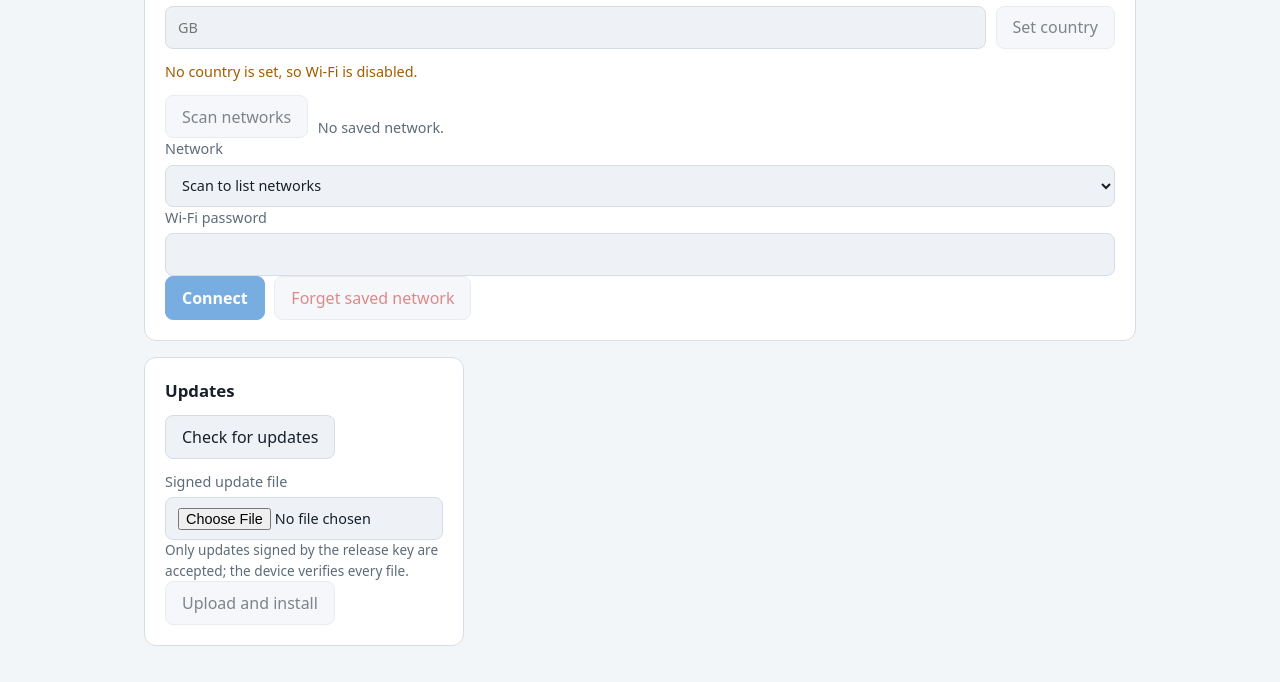
shows when no newer update exists
The width and height of the screenshot is (1280, 682).
(page scrolled)
Click the button "Check for updates": (250, 437) [165, 415, 335, 458]
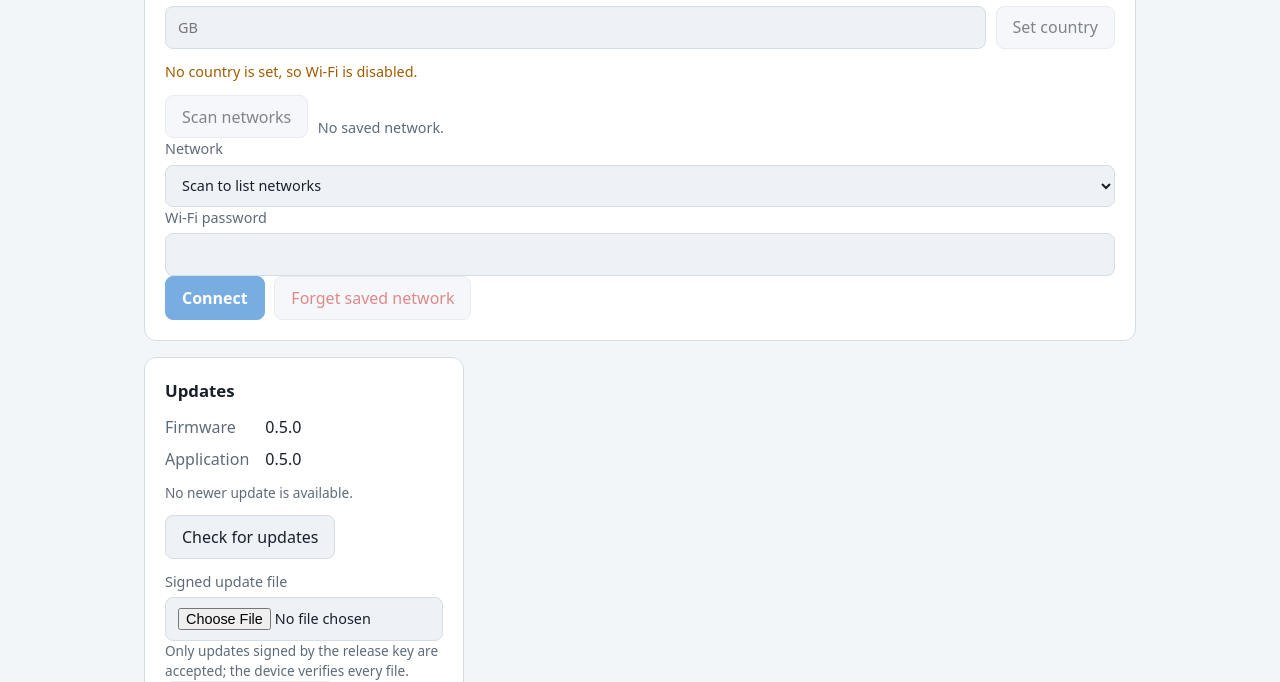
Result: the text "No newer update is available." is shown at [165, 483, 353, 502]
